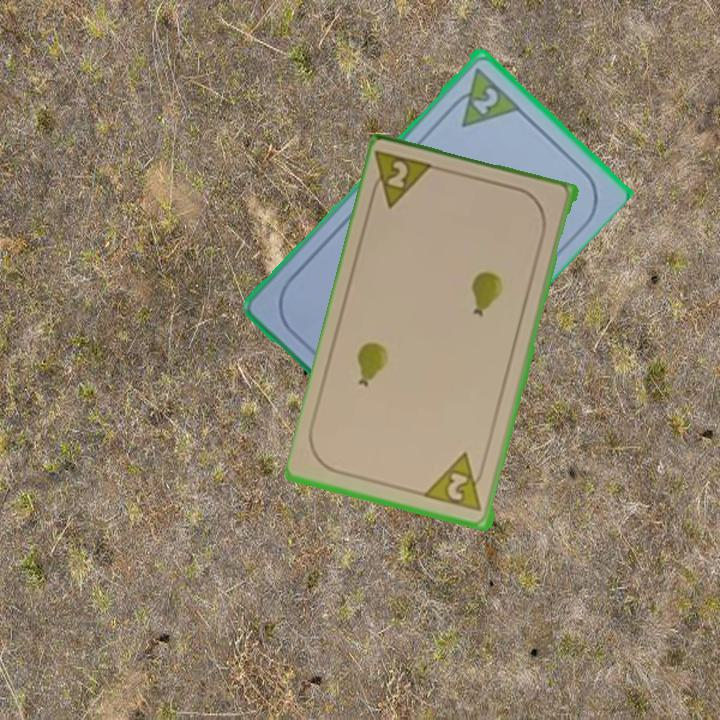2p: (443, 62, 522, 130), (366, 147, 439, 213), (423, 450, 488, 515)
